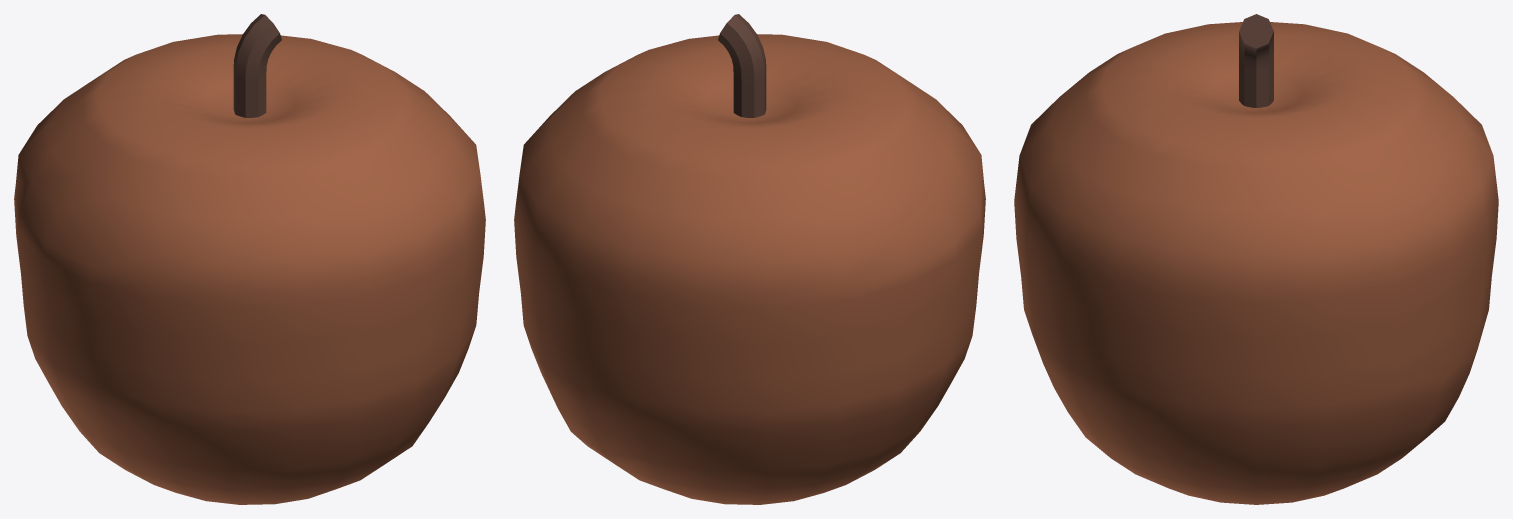
File: MAYAFruit_1.fbx
The picture shows the model from 3 angles, left to right: view 1: azimuth 30°, elevation 25°; view 2: azimuth 150°, elevation 25°; view 3: azimuth 270°, elevation 25°; orthographic projection. The views are drawn at different scales.
Parts seen in each view (by area): view 1: AppleBase, AppleStem; view 2: AppleBase, AppleStem; view 3: AppleBase, AppleStem.
Boxes of the visible parts, box(x1,y1,x2,y2) form: AppleBase: box(14, 34, 485, 504); AppleStem: box(233, 14, 281, 117); AppleBase: box(514, 34, 985, 504); AppleStem: box(718, 14, 766, 117); AppleBase: box(1014, 22, 1498, 504); AppleStem: box(1239, 14, 1273, 107).
Bounding box in the file's own units: 7.03 × 7.6 × 7.03.
